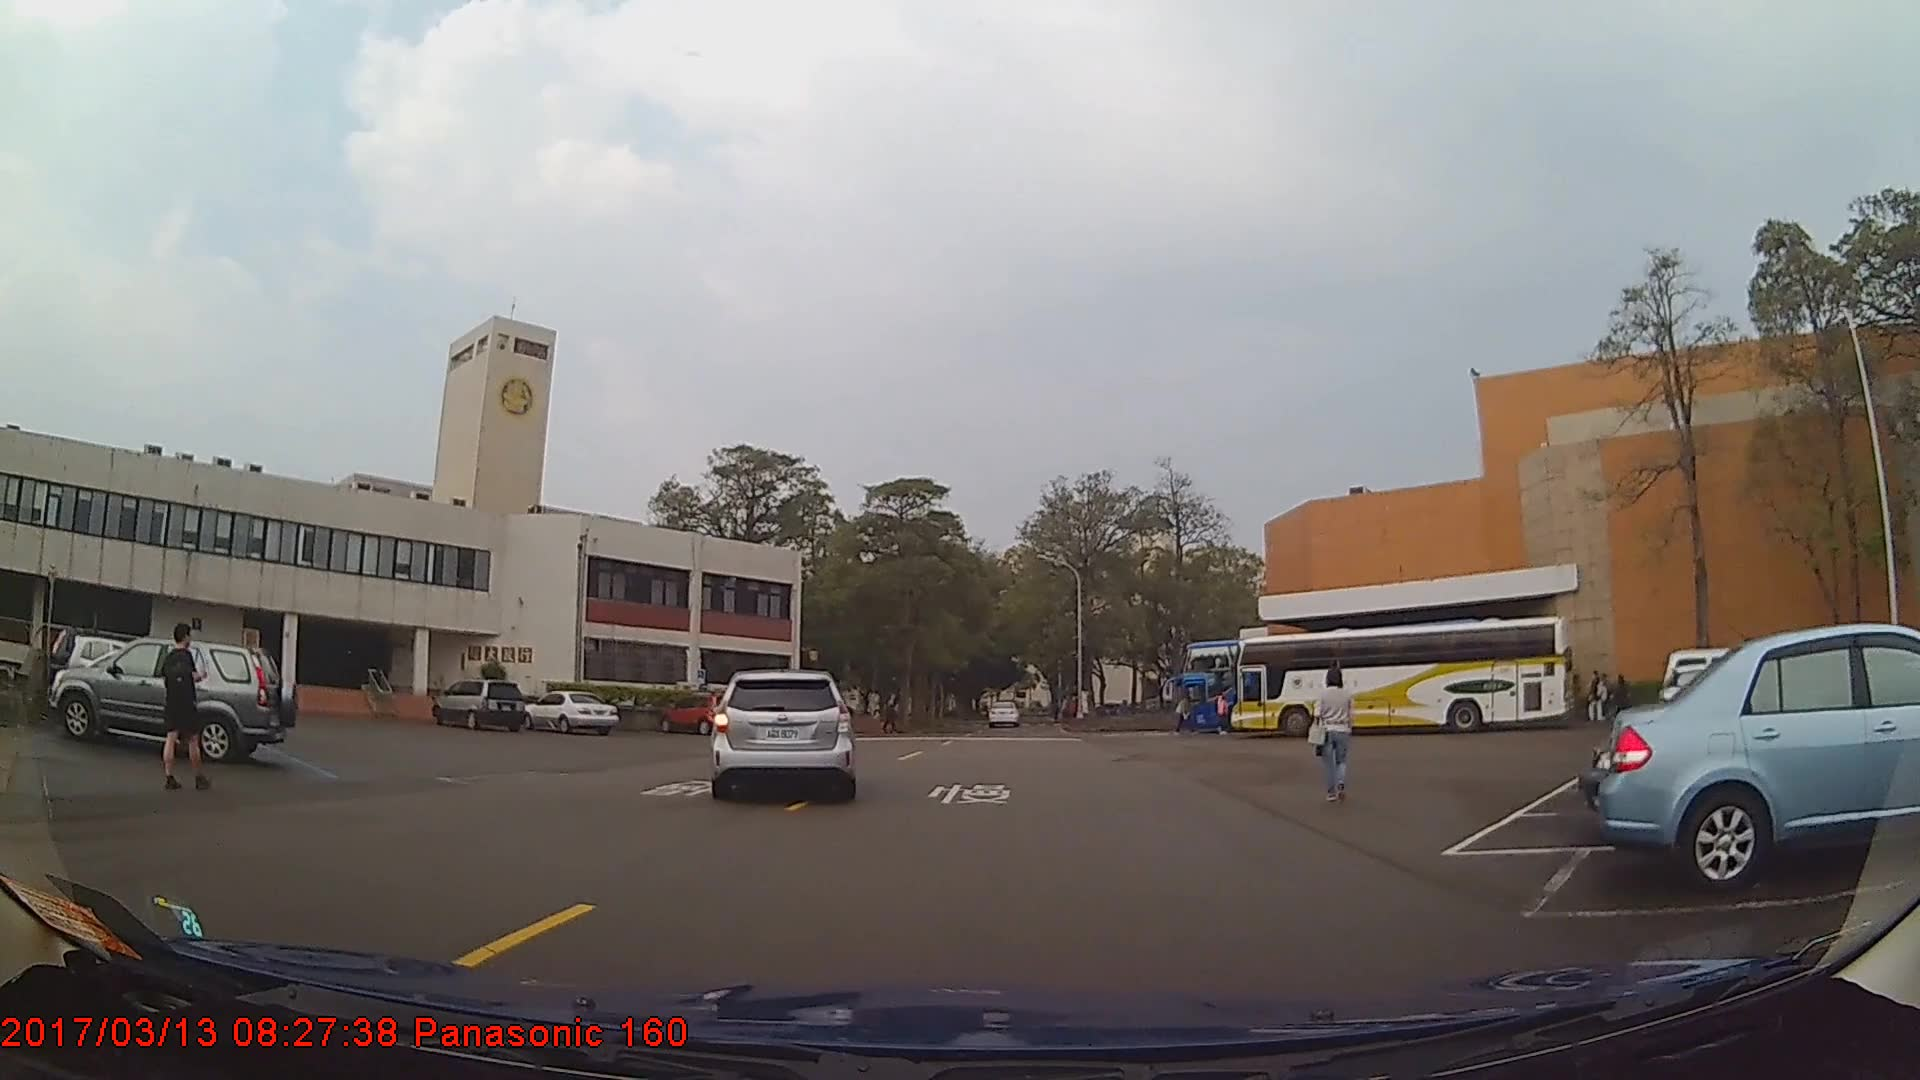pedestrian: (154, 621, 208, 791), (1307, 670, 1355, 804), (1603, 669, 1638, 725)
vehicle: (1597, 622, 1920, 894), (1227, 614, 1571, 740), (49, 636, 298, 764), (1174, 641, 1450, 735), (712, 666, 855, 800), (431, 679, 525, 733), (519, 691, 620, 736), (659, 692, 736, 736), (988, 700, 1020, 728)
